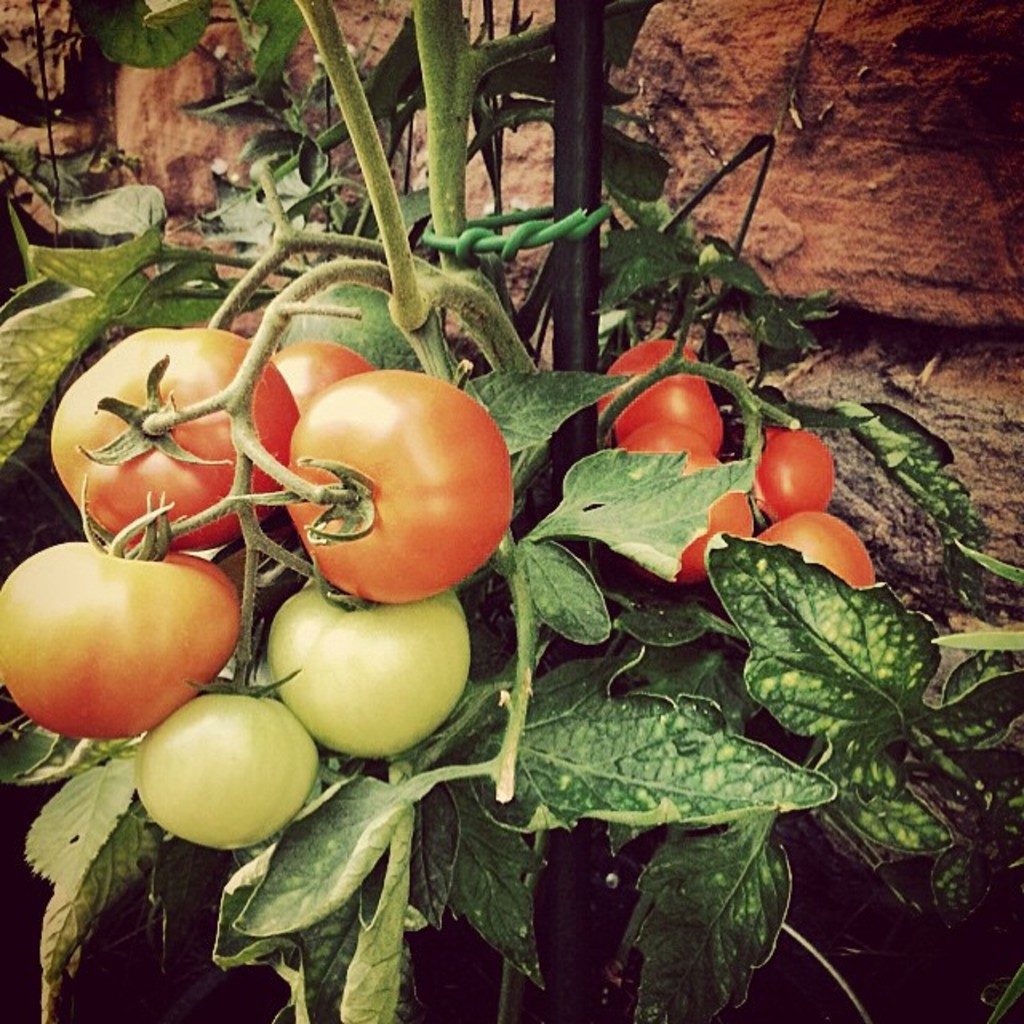Tomato: (1, 472, 240, 734), (49, 327, 297, 556), (268, 572, 473, 758), (131, 670, 315, 867), (268, 337, 384, 544), (628, 420, 753, 572), (593, 332, 723, 433), (752, 505, 871, 590), (747, 425, 841, 507)
